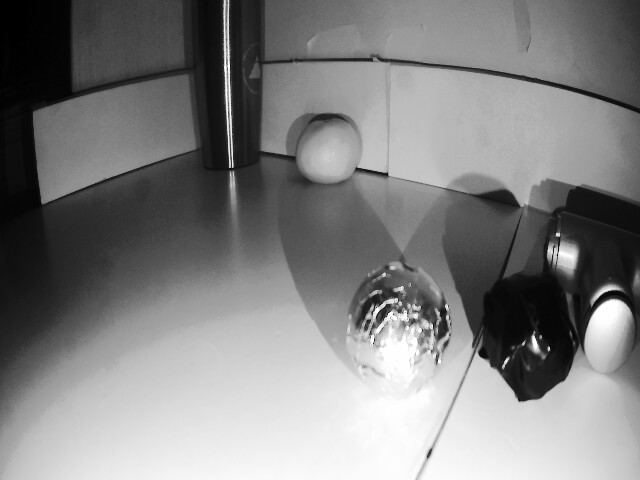black: (475, 277, 580, 398)
silver: (341, 267, 456, 396)
